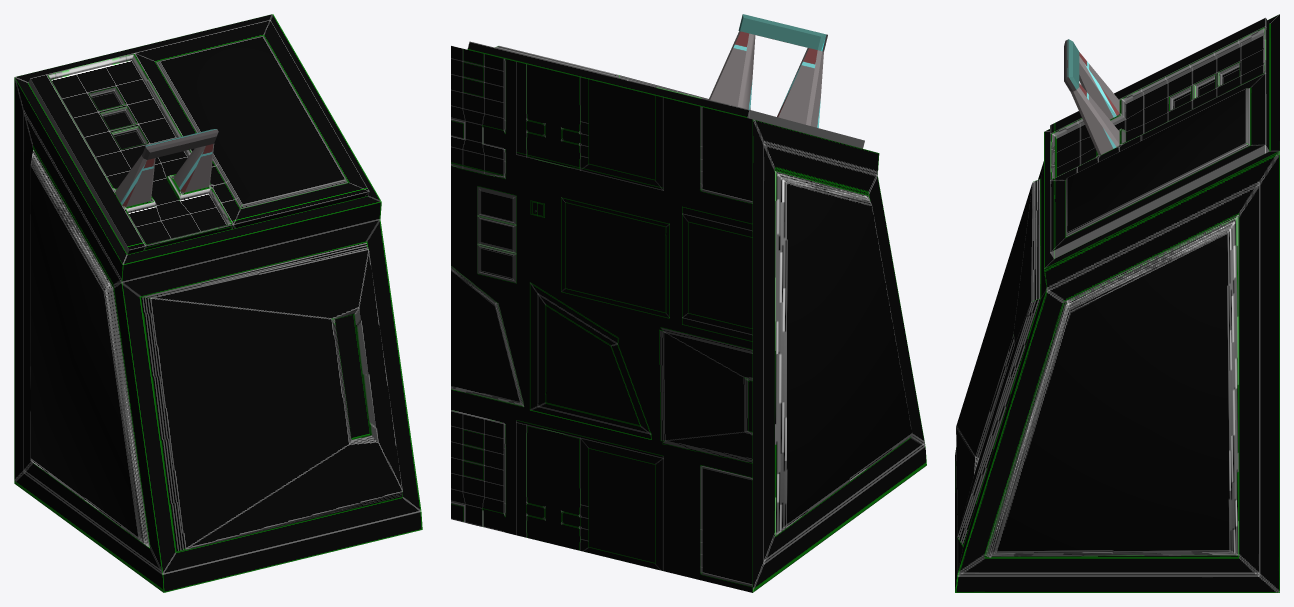
The model's file is Machine Control.FBX.
3 views of the same model, side by side, from view 1: azimuth 30°, elevation 25°; view 2: azimuth 150°, elevation 25°; view 3: azimuth 270°, elevation 25° (orthographic). The views are drawn at different scales.
Visible parts, largest first — view 1: Panel, Handle; view 2: Panel, Handle; view 3: Panel, Handle.
Part boxes in pixels (x1=…): Panel: x1=14, y1=14, x2=422, y2=592; Handle: x1=115, y1=129, x2=218, y2=206; Panel: x1=451, y1=41, x2=926, y2=592; Handle: x1=708, y1=14, x2=827, y2=127; Panel: x1=955, y1=14, x2=1279, y2=592; Handle: x1=1064, y1=39, x2=1119, y2=154.
Size of the model in its own units: 16.54 by 23.69 by 15.75.
